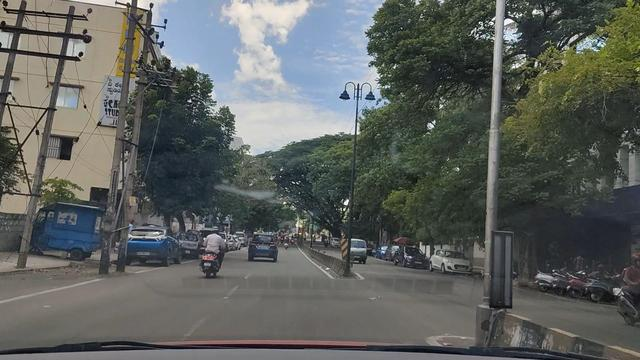LMV: (202, 231, 229, 281), (253, 219, 279, 263)
